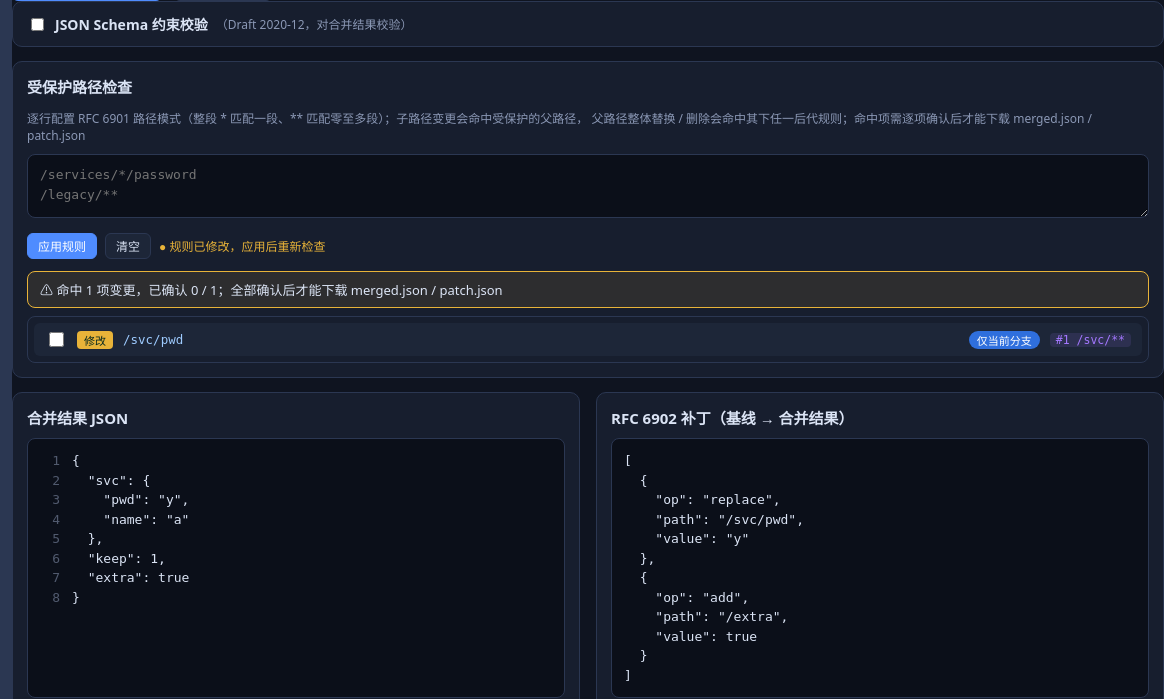
Test: 受保护路径检查（OutputStage 集成） › 返回调整并重新生成结果（组件重挂载）后清空确认，规则配置保留
(page scrolled)
// 确认命中项 → 下载可用
Click the checkbox labelled "修改 /svc/pwd 仅当前分支 #1 /svc/**" at (56, 340), box [49,332,64,347]
(page scrolled)
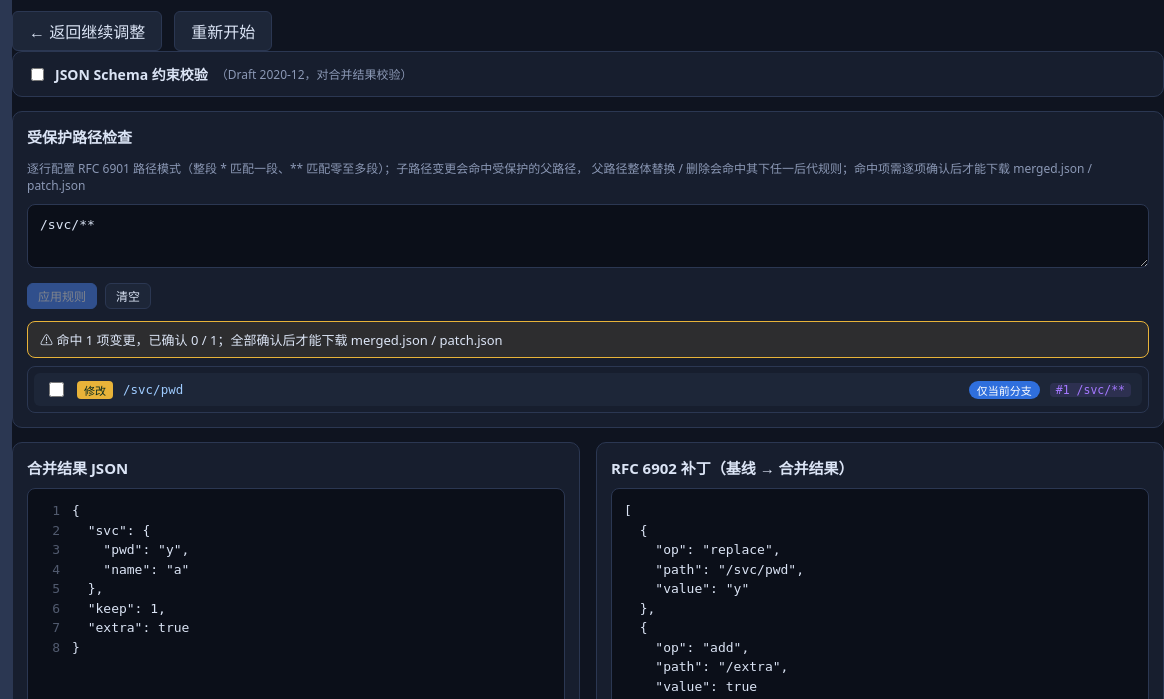
Expected: the text "⚠ 命中 1 项变更，已确认 0 / 1；全部确认后才能下载 merged.json / patch.json" is shown, [27,321,1149,358]
Now the checkbox labelled "修改 /svc/pwd 仅当前分支 #1 /svc/**" is not checked, box [49,382,64,397]
